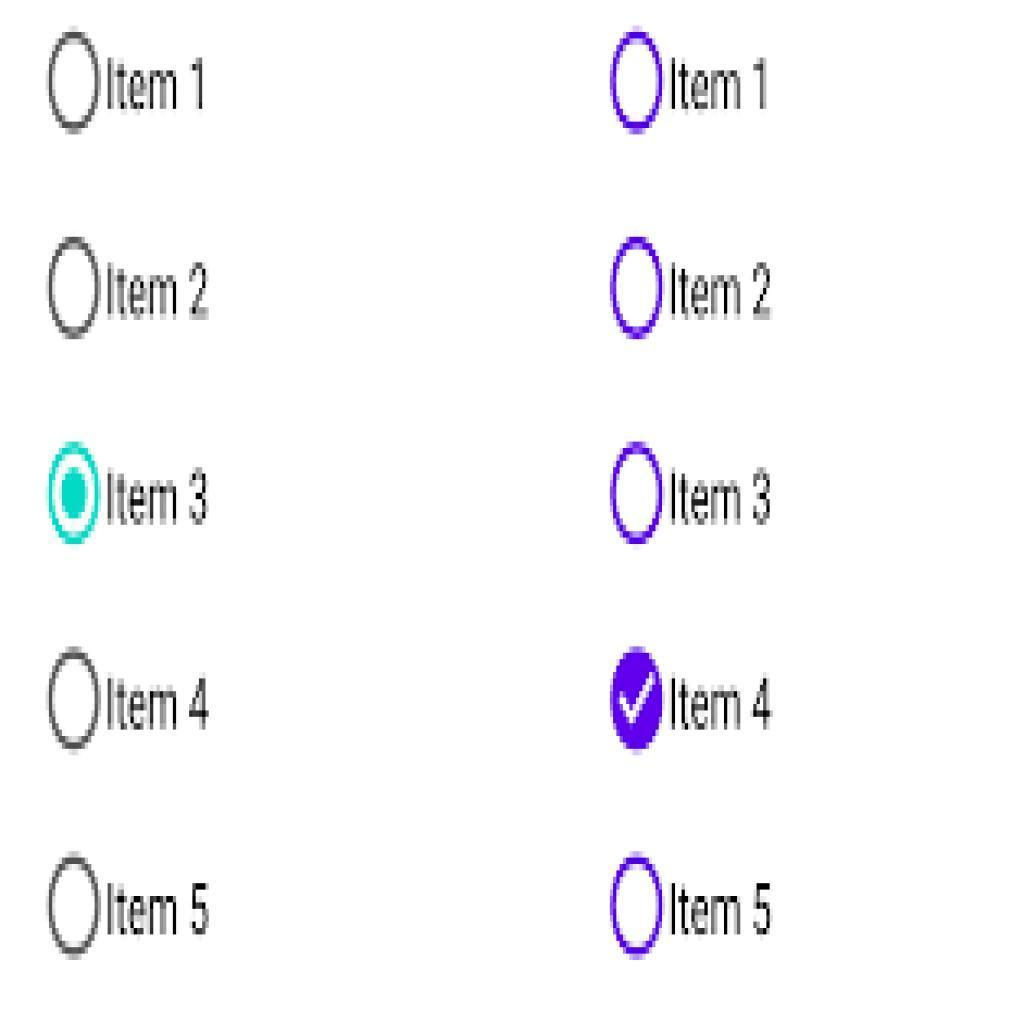label: (667, 872, 776, 942), (104, 262, 221, 325), (664, 671, 781, 734), (670, 263, 780, 329), (101, 52, 211, 116), (103, 879, 216, 940), (103, 470, 211, 530), (666, 469, 777, 526), (106, 674, 211, 733), (670, 60, 775, 115)
radio: (46, 645, 106, 763), (604, 643, 664, 754), (43, 853, 103, 957), (610, 851, 666, 962), (48, 27, 102, 142), (44, 439, 101, 546), (611, 235, 666, 343), (610, 30, 666, 134), (610, 442, 664, 547), (49, 237, 100, 345)
